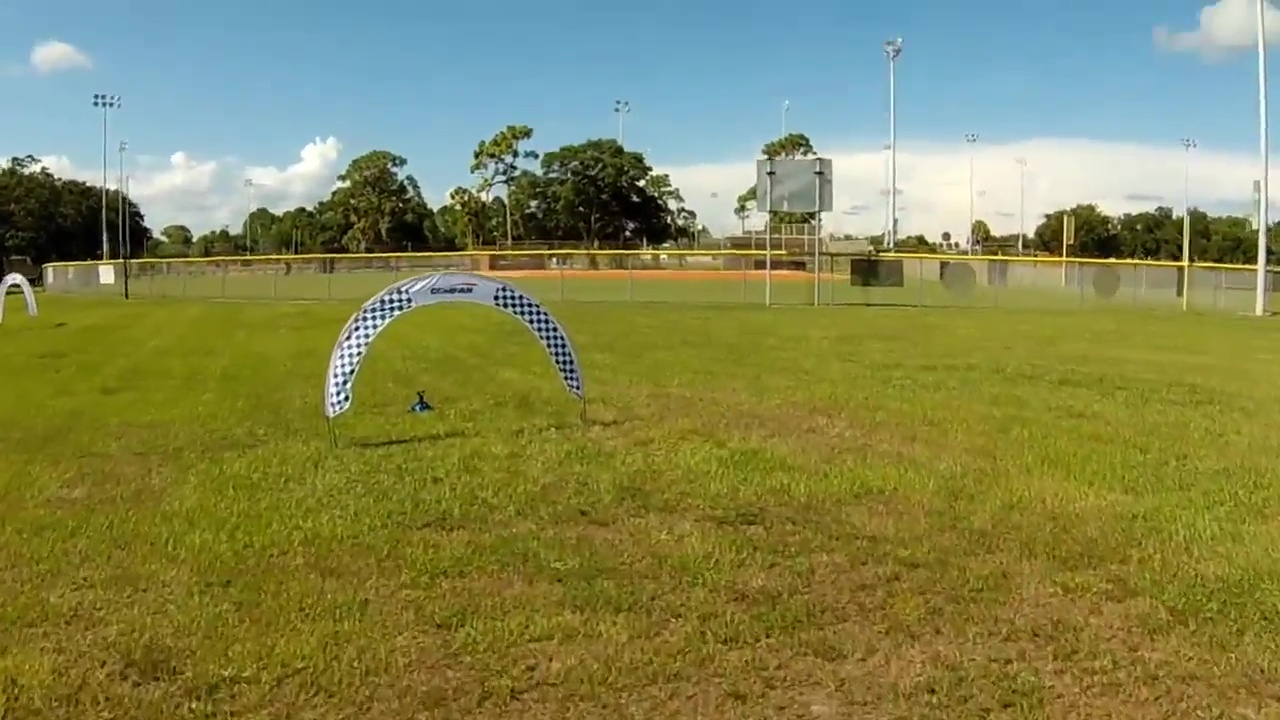gate: (320, 272, 589, 416)
